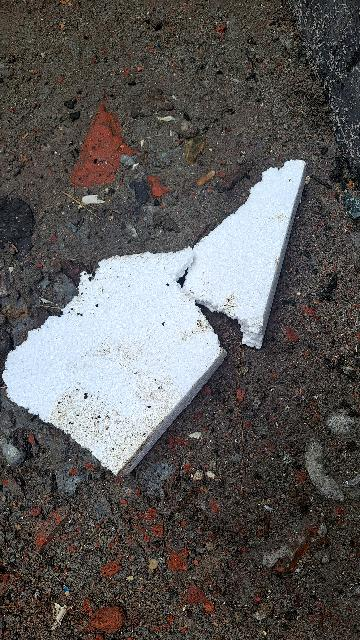cocksheet: (1, 153, 320, 493)
